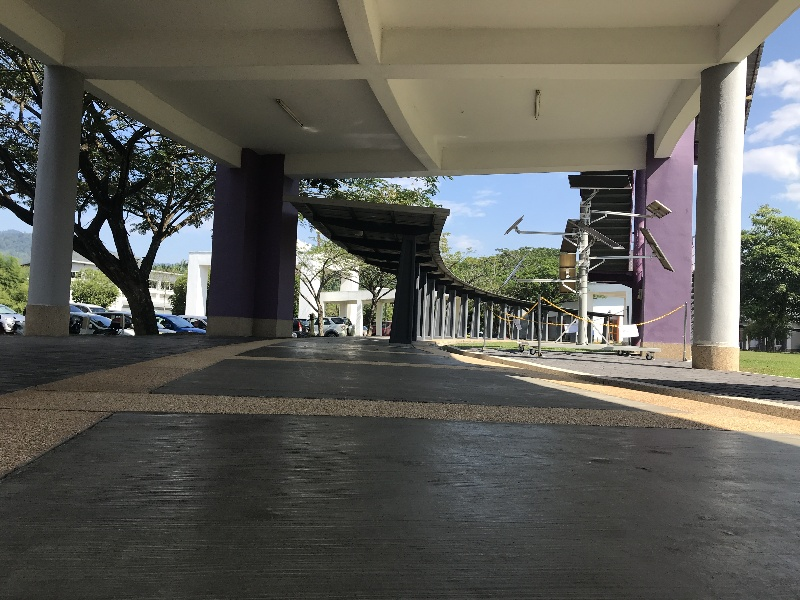pillar: (206, 138, 302, 349), (696, 61, 757, 384), (22, 62, 86, 344), (632, 127, 683, 366), (387, 230, 423, 351)
